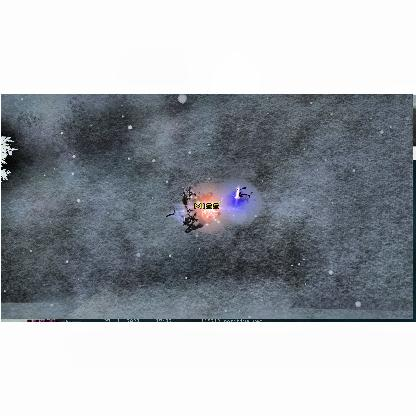caliana: (168, 210, 200, 232), (182, 188, 194, 208)
